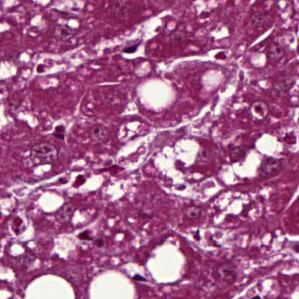ballooning: (142, 240, 188, 285), (134, 75, 177, 114)
